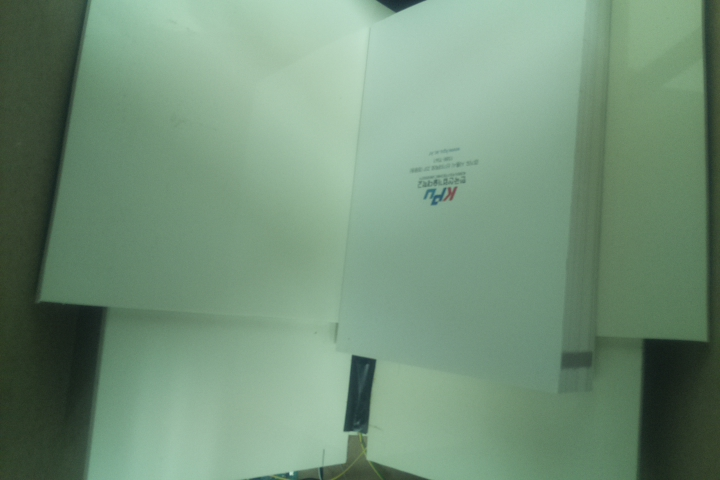book: (332, 1, 617, 396)
